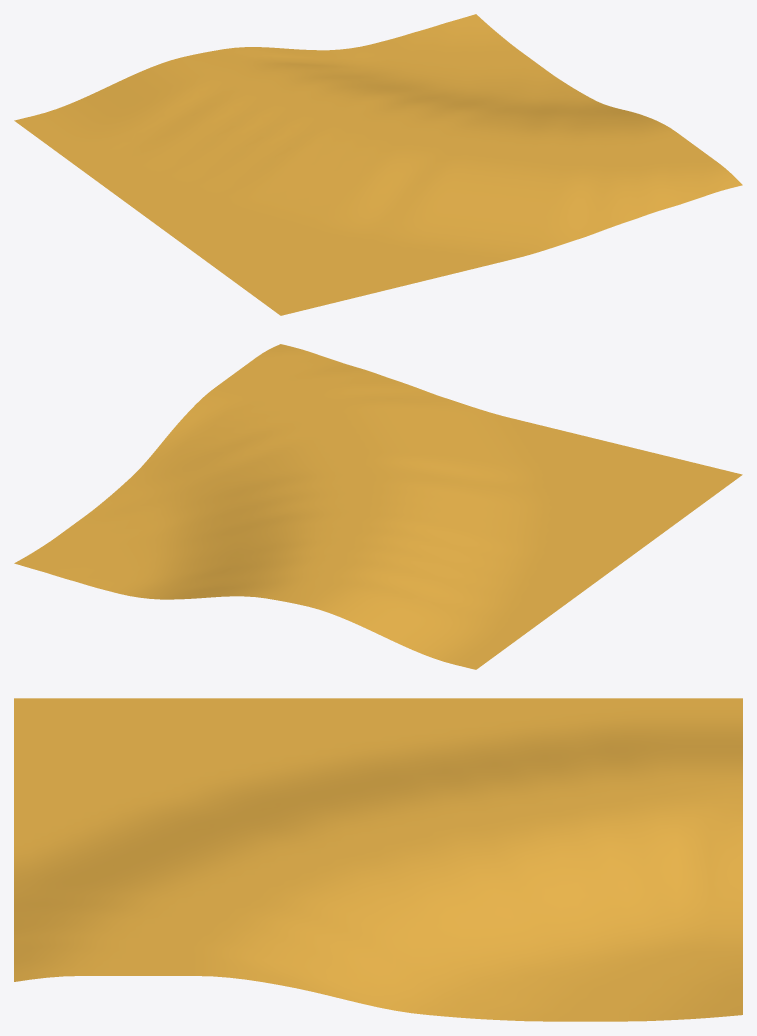
Rendered from CHUNK_-1_1.glb.
3 renders of one model, top to bottom at view 1: azimuth 30°, elevation 25°; view 2: azimuth 150°, elevation 25°; view 3: azimuth 270°, elevation 25°, orthographic. The views are drawn at different scales.
Visible parts, largest first — view 1: Chunk_-1_1; view 2: Chunk_-1_1; view 3: Chunk_-1_1.
Part boxes in pixels (left/top/right/bottom): Chunk_-1_1: left=14, top=14, right=742, bottom=315; Chunk_-1_1: left=14, top=344, right=742, bottom=669; Chunk_-1_1: left=14, top=698, right=742, bottom=1021.
Bounding box in the file's own units: 99.99 × 6.89 × 99.99.
